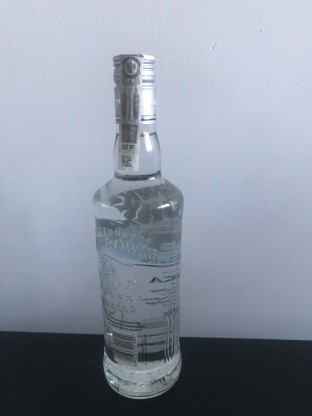nakretka: (110, 50, 159, 127)
